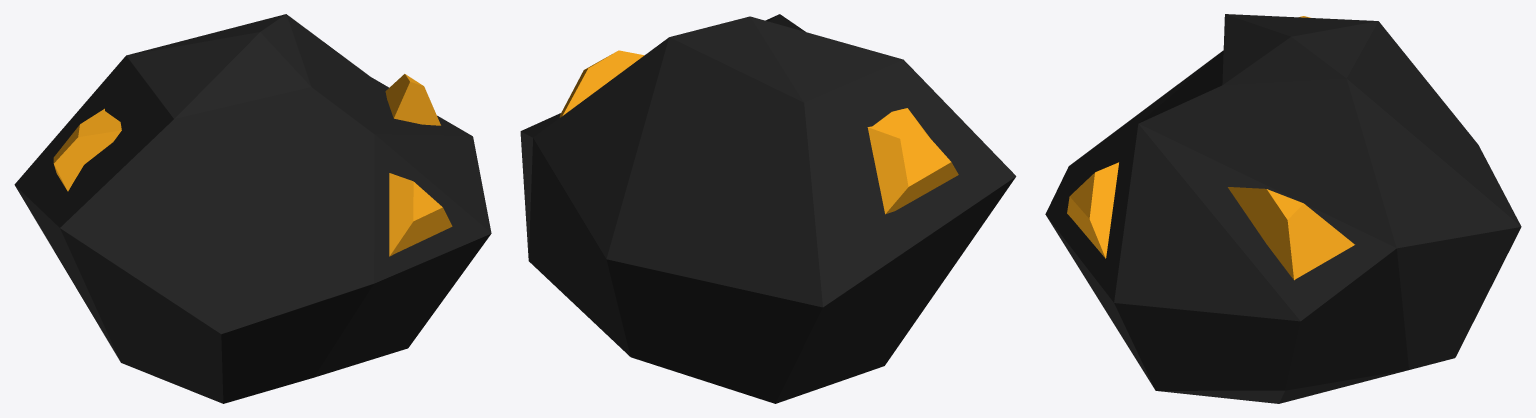
The model's file is DropKouseki.fbx.
3 renders of one model, left to right at view 1: azimuth 30°, elevation 25°; view 2: azimuth 150°, elevation 25°; view 3: azimuth 270°, elevation 25°, orthographic. The views are drawn at different scales.
Parts seen in each view (by area): view 1: Drop; view 2: Drop; view 3: Drop.
Part boxes in pixels (x1,y1,x2,y2): Drop: (14, 14, 491, 403); Drop: (520, 14, 1016, 403); Drop: (1045, 14, 1521, 403).
Bounding box in the file's own units: 0.6699 × 0.4868 × 0.5802.
